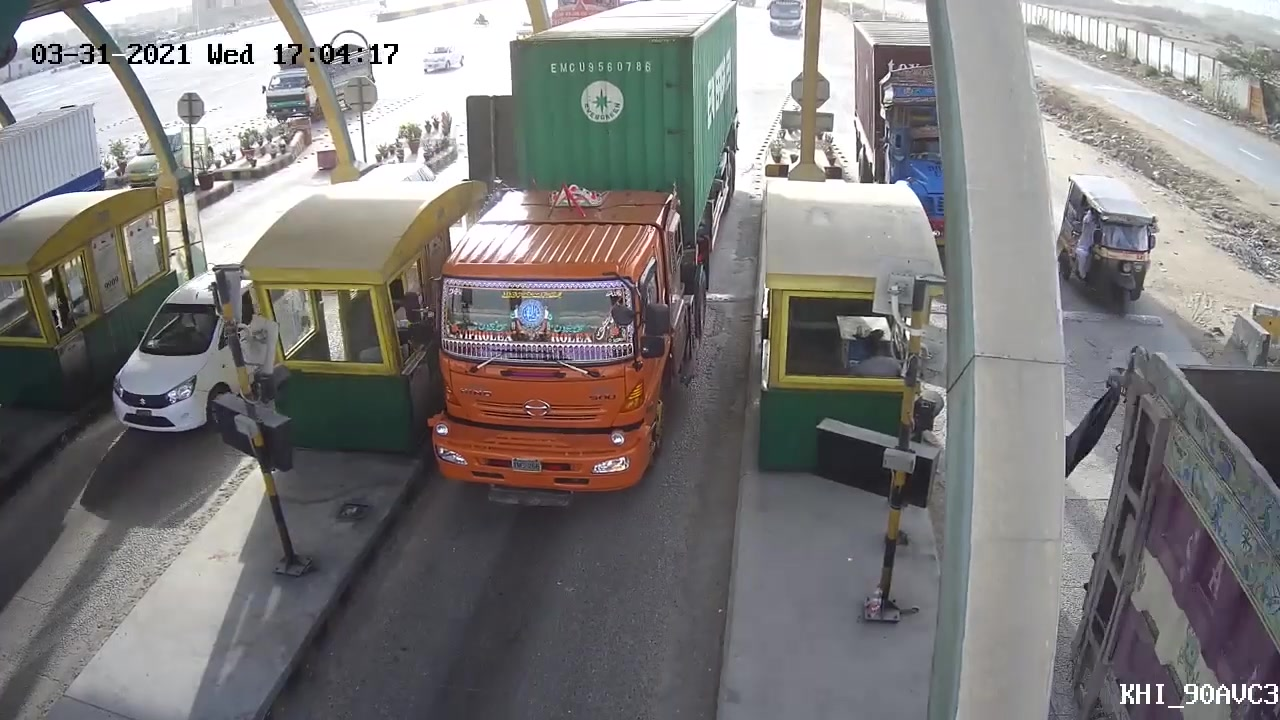F6: (409, 4, 749, 517)
